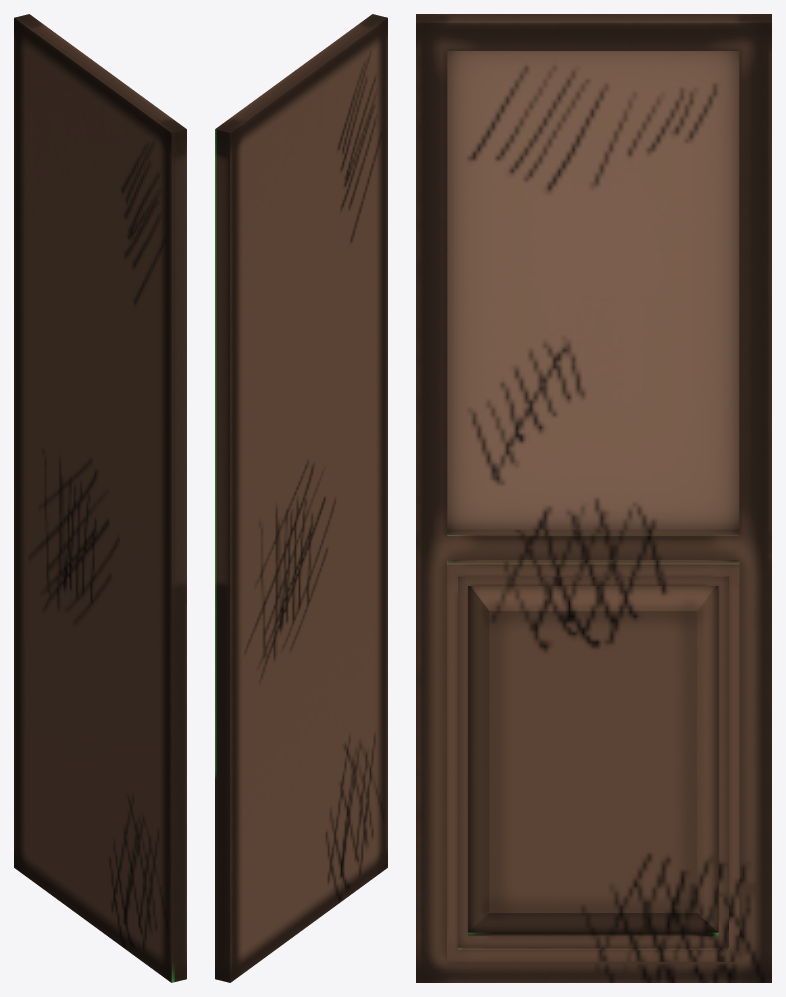
The model's file is Door_03.fbx.
The picture shows the model from 3 angles, left to right: view 1: azimuth 30°, elevation 25°; view 2: azimuth 150°, elevation 25°; view 3: azimuth 270°, elevation 25°; orthographic projection. The views are drawn at different scales.
Parts seen in each view (by area): view 1: Door_03; view 2: Door_03; view 3: Door_03.
Part boxes in pixels (x1,y1,x2,y2): Door_03: (14,14,186,982); Door_03: (215,14,387,982); Door_03: (416,14,771,982).
Size of the model in its own units: 5.37 by 184 by 61.74.
